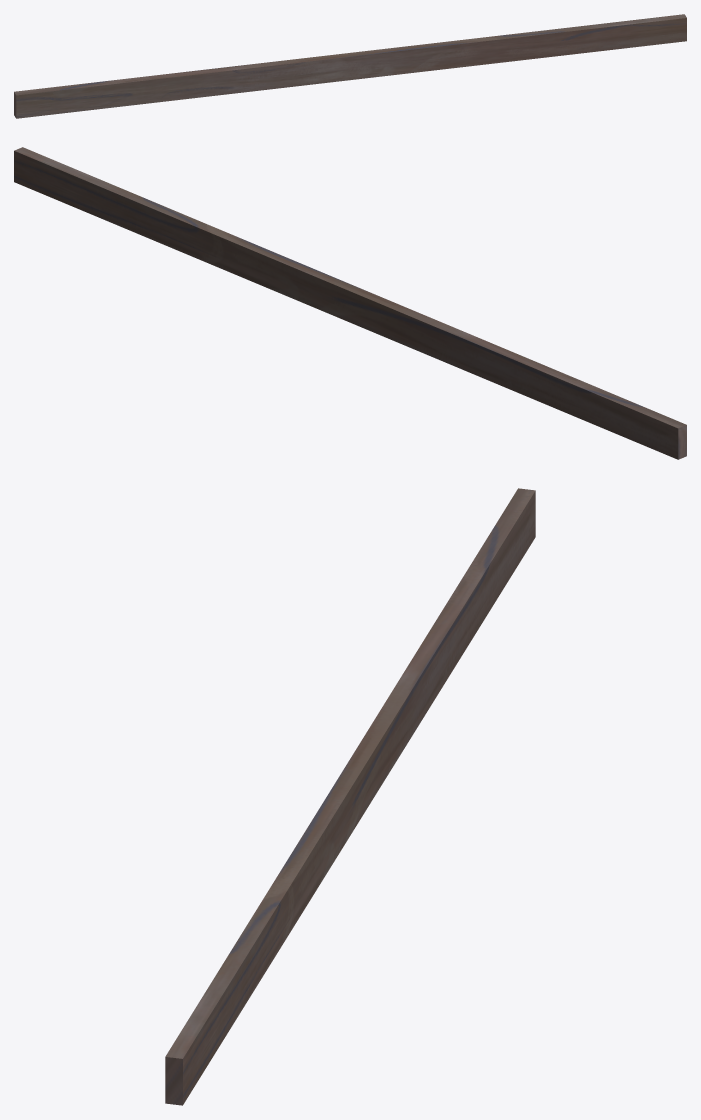
Rendered from long_board.fbx.
The picture shows the model from 3 angles, top to bottom: view 1: azimuth 30°, elevation 25°; view 2: azimuth 150°, elevation 25°; view 3: azimuth 270°, elevation 25°; orthographic projection. The views are drawn at different scales.
Parts seen in each view (by area): view 1: long board; view 2: long board; view 3: long board.
Part boxes in pixels (x1=…): long board: x1=14, y1=14, x2=686, y2=118; long board: x1=14, y1=147, x2=686, y2=459; long board: x1=165, y1=488, x2=535, y2=1105.
Bounding box in the file's own units: 266 × 10.16 × 73.07.
